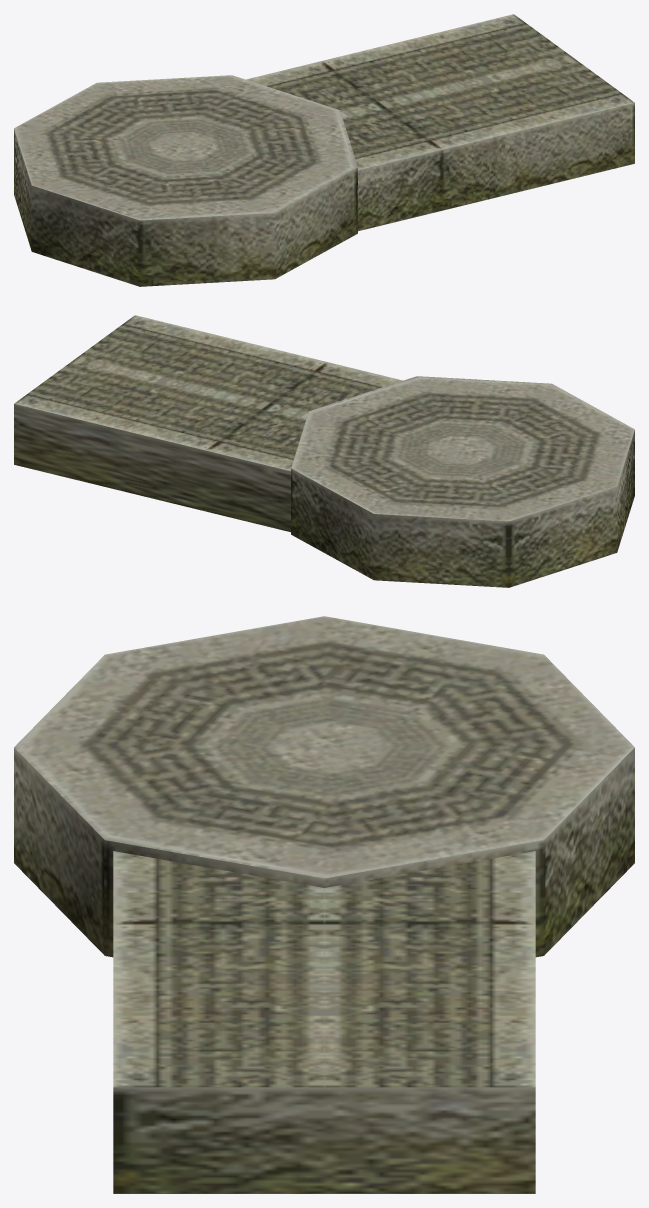
The model's file is secret_boundary_ston_01.fbx.
3 renders of one model, top to bottom at view 1: azimuth 30°, elevation 25°; view 2: azimuth 150°, elevation 25°; view 3: azimuth 270°, elevation 25°, orthographic. The views are drawn at different scales.
Visible parts, largest first — view 1: secret_boundary ston_01; view 2: secret_boundary ston_01; view 3: secret_boundary ston_01.
Boxes of the visible parts, x1,y1,x2,y2 form: secret_boundary ston_01: (14,14,634,286); secret_boundary ston_01: (14,315,634,587); secret_boundary ston_01: (14,616,634,1193).
Bounding box in the file's own units: 2.79 × 0.3266 × 1.59.
